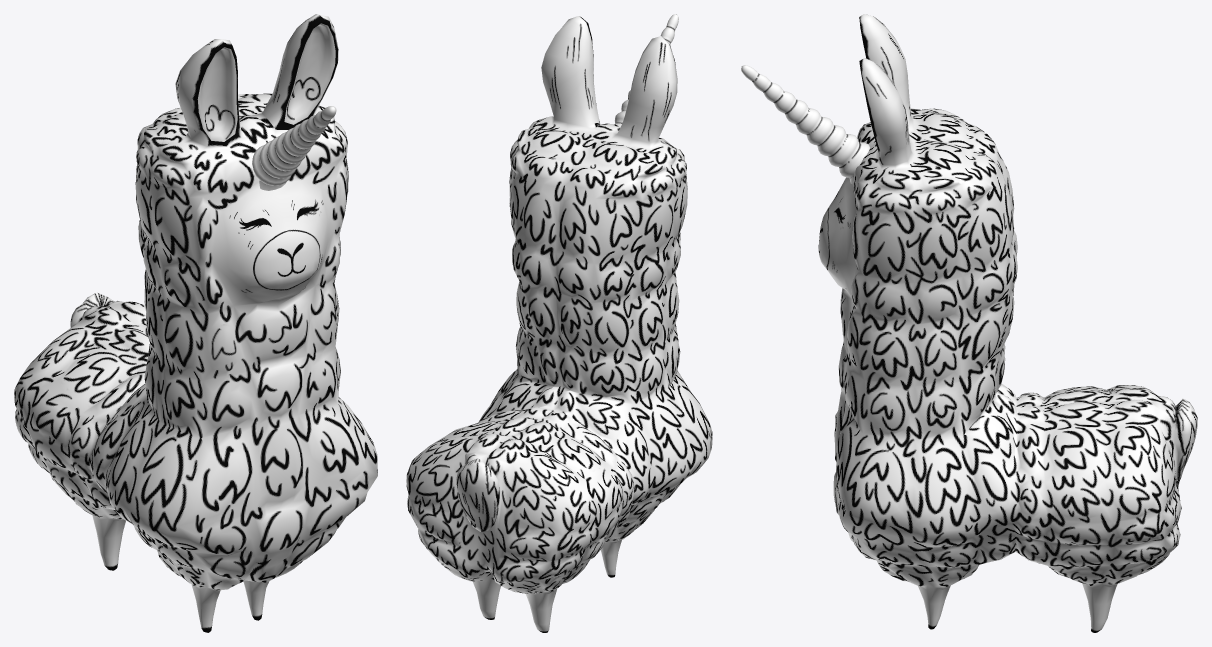
Rendered from Day7Enchanted 1.fbx.
The picture shows the model from 3 angles, left to right: view 1: azimuth 30°, elevation 25°; view 2: azimuth 150°, elevation 25°; view 3: azimuth 270°, elevation 25°; orthographic projection. The views are drawn at different scales.
Parts seen in each view (by area): view 1: Alpacacorn; view 2: Alpacacorn; view 3: Alpacacorn.
Part boxes in pixels (x1,y1,x2,y2): Alpacacorn: [14, 14, 377, 632]; Alpacacorn: [406, 14, 712, 632]; Alpacacorn: [741, 14, 1197, 632].
Size of the model in its own units: 97.63 by 241 by 171.
1 material, 1 textured.
